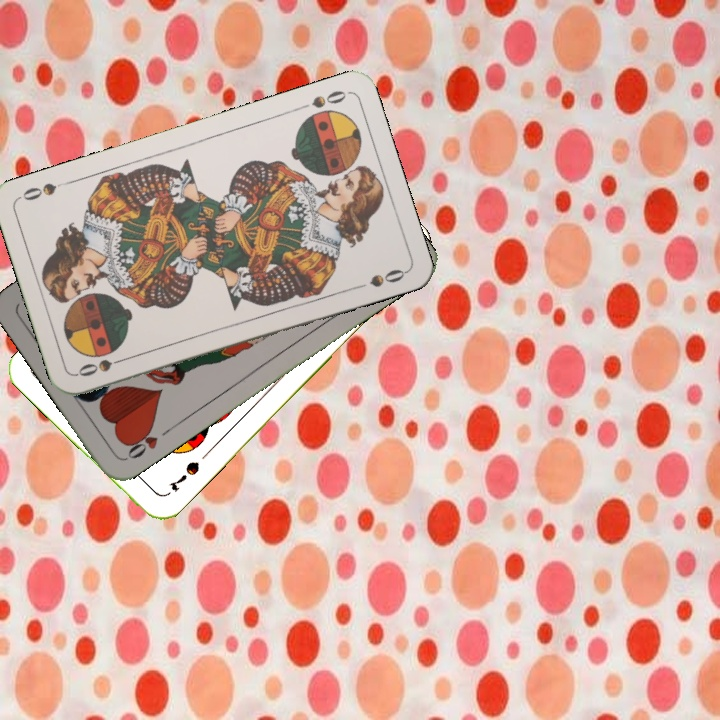HO: (121, 422, 174, 462)
S7: (165, 457, 202, 493)
SO: (73, 352, 131, 380), (293, 86, 349, 114)
